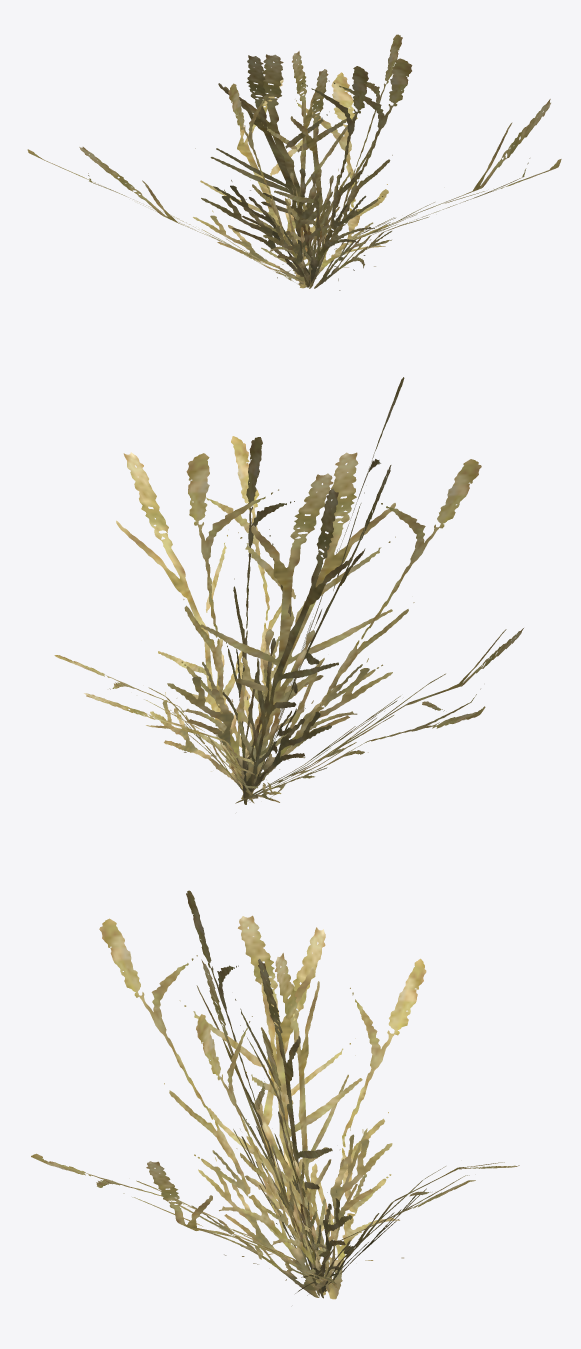
The model's file is Foliage_Grass_M6_01.glb.
3 views of the same model, one above another, from view 1: azimuth 30°, elevation 25°; view 2: azimuth 150°, elevation 25°; view 3: azimuth 270°, elevation 25° (orthographic). The views are drawn at different scales.
Visible parts, largest first — view 1: FOLIAGE_GRASS_M6_01; view 2: FOLIAGE_GRASS_M6_01; view 3: FOLIAGE_GRASS_M6_01.
Boxes of the visible parts, x1,y1,x2,y2 form: FOLIAGE_GRASS_M6_01: (27, 34, 561, 290); FOLIAGE_GRASS_M6_01: (54, 377, 523, 804); FOLIAGE_GRASS_M6_01: (31, 890, 519, 1299).
Bounding box in the file's own units: 0.589 × 0.372 × 0.514.
1 material, 1 textured.
